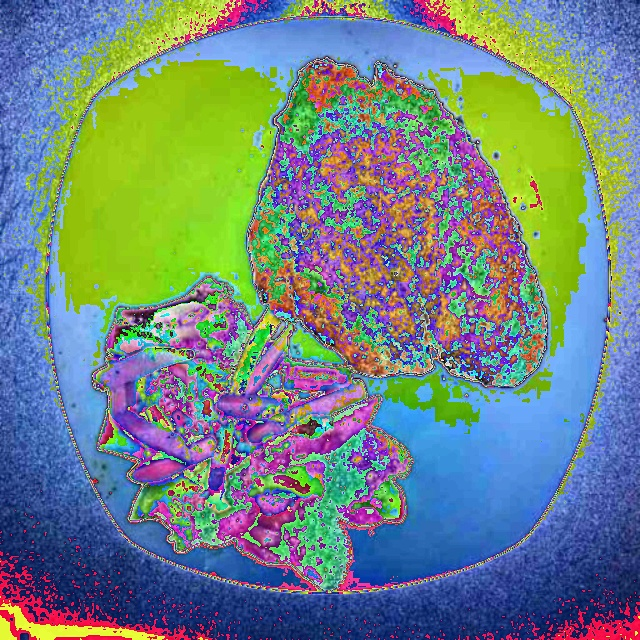background: (92, 60, 548, 592)
